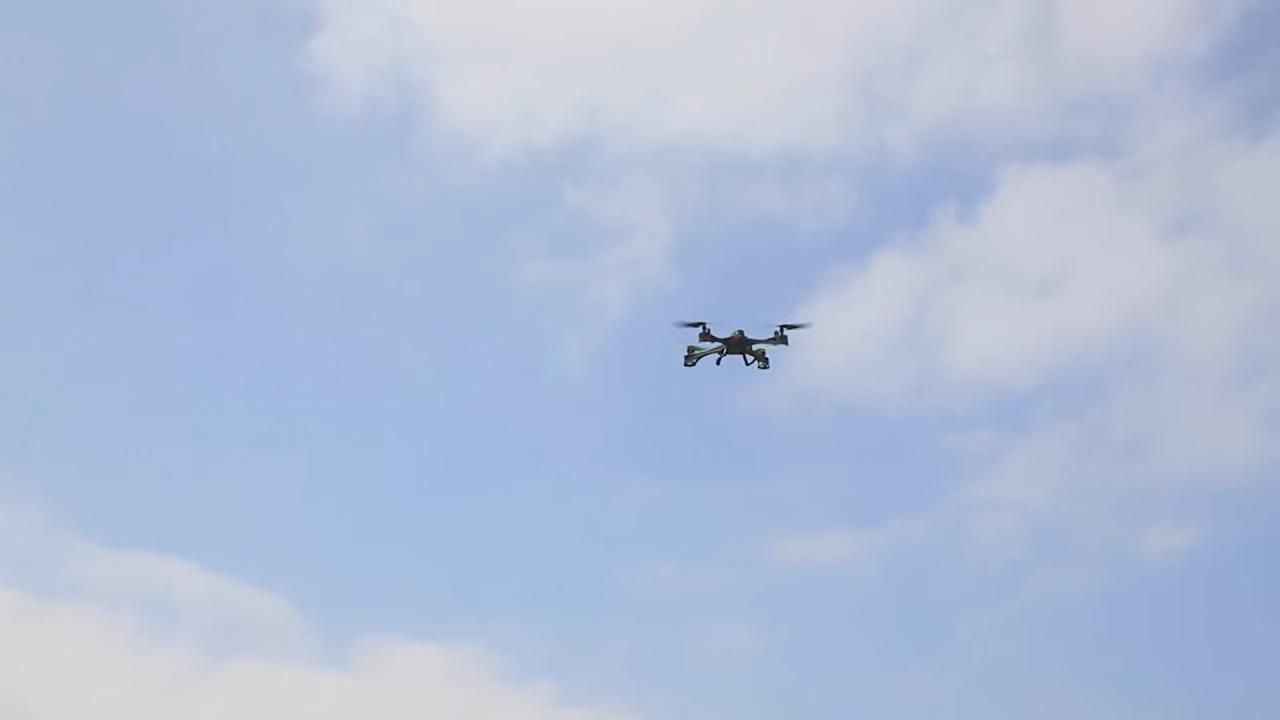Drone: (659, 299, 821, 392)
